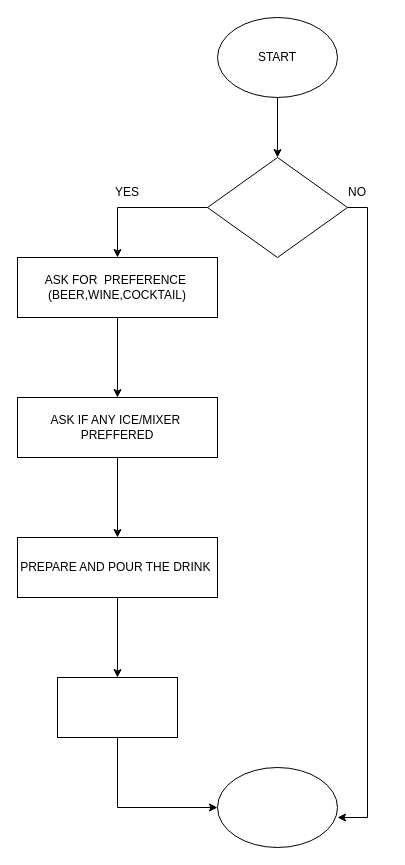
The diagram is 405 pixels wide and 865 high, and some of its shapes have lost their labels. Here are the shapes that lost their labels. From the top down, the box of each, then its label:
(206, 156, 348, 258): ASK FOR A DRINK
(56, 676, 178, 738): SERVE THEE DRINK
